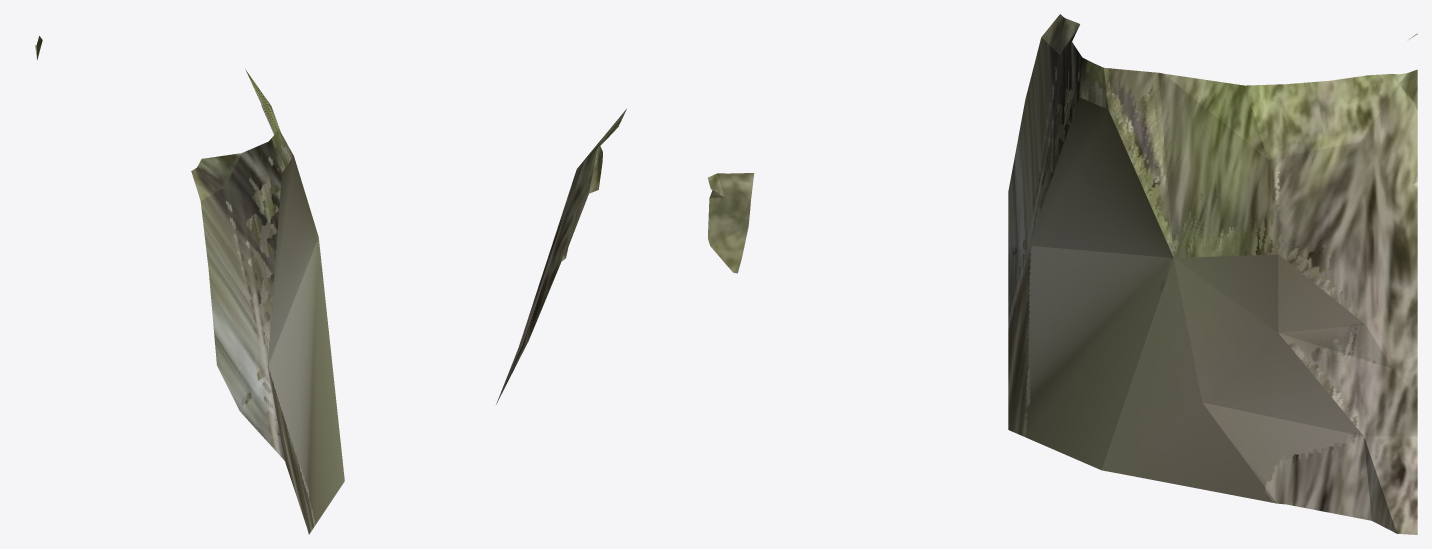
3 renders of one model, left to right at view 1: azimuth 30°, elevation 25°; view 2: azimuth 150°, elevation 25°; view 3: azimuth 270°, elevation 25°, orthographic. The views are drawn at different scales.
Bounding box in the file's own units: 2.56 × 2.95 × 2.95.
Materials: 3 (3 with a texture image).
